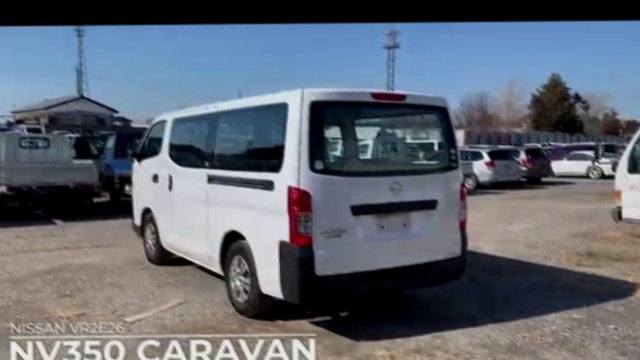van: (125, 86, 467, 302)
